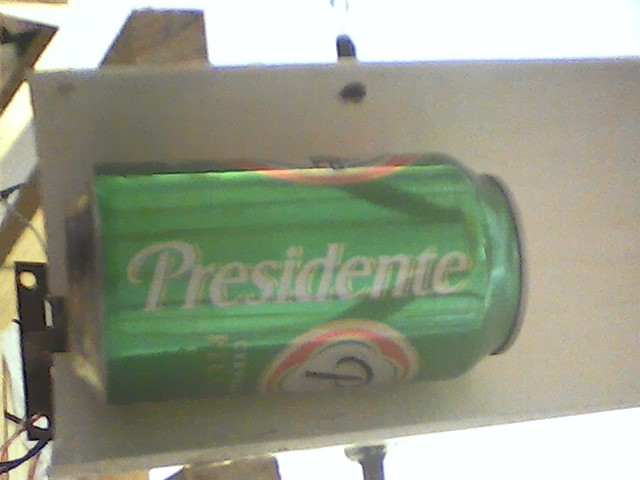lata: (56, 148, 543, 416)
